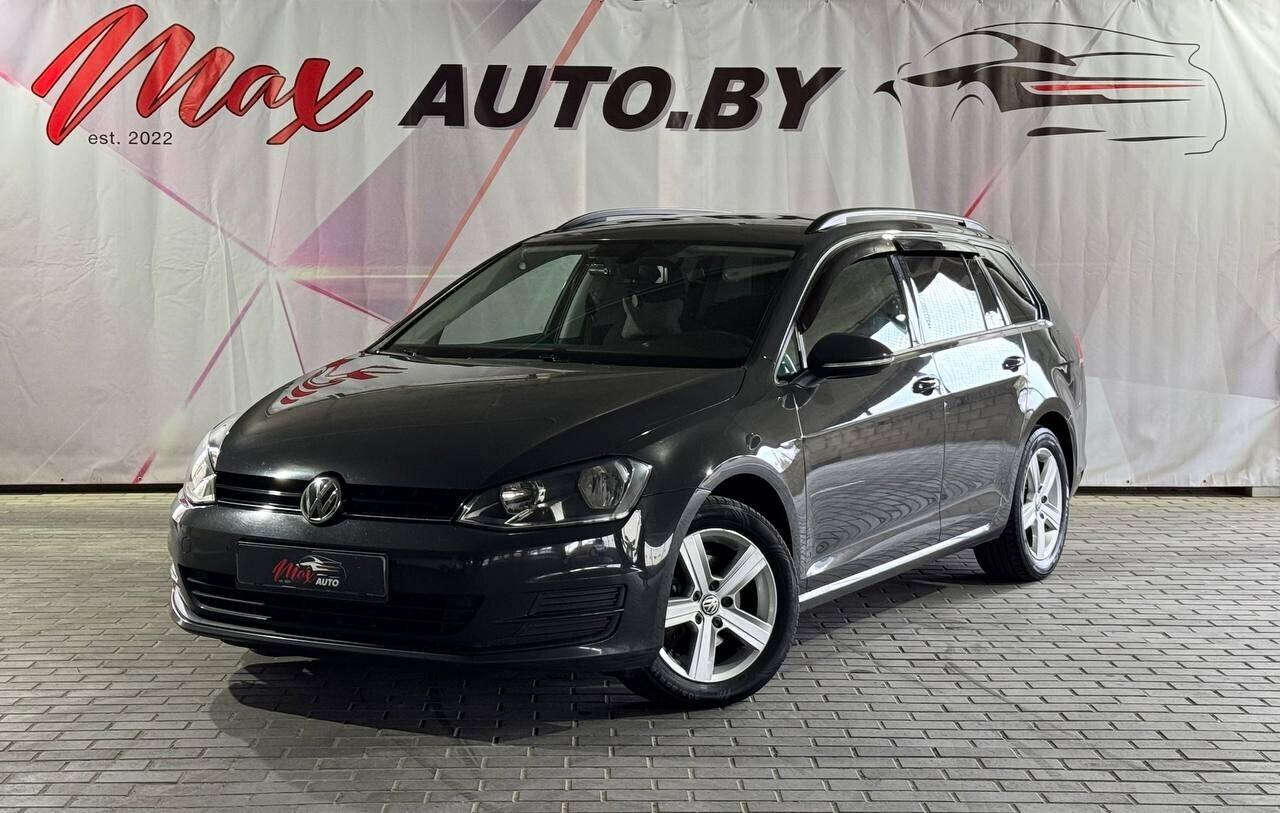Golf_2012-2017: (158, 208, 1087, 712)
